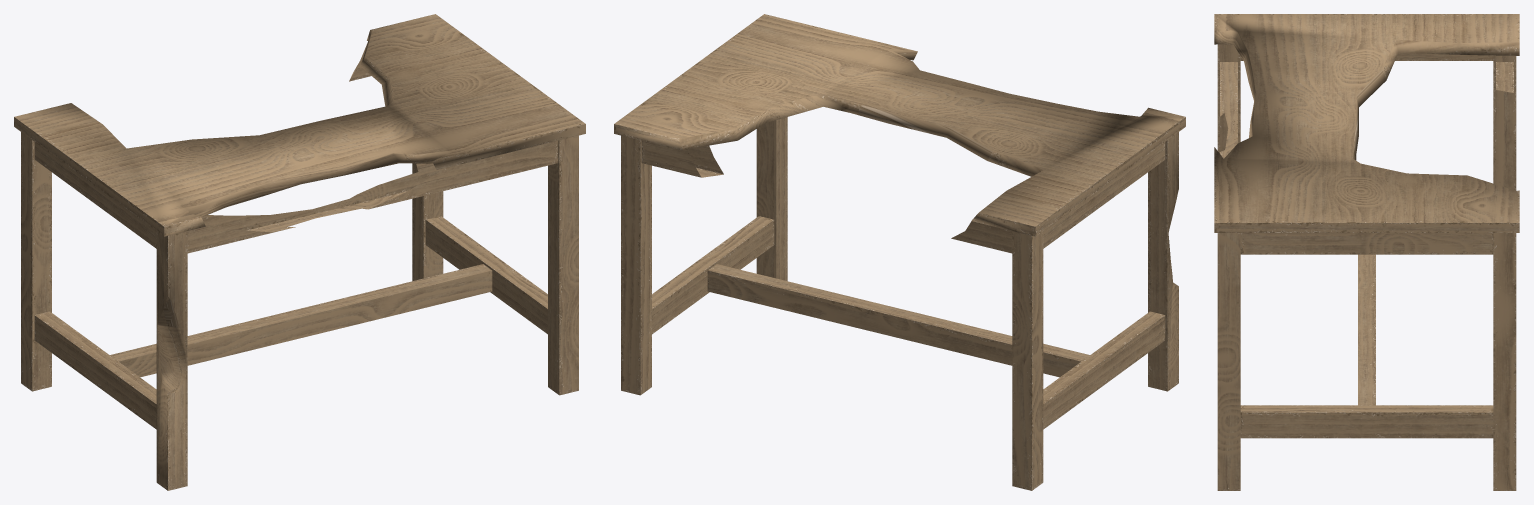
Rendered from Table_broken.fbx.
3 views of the same model, side by side, from view 1: azimuth 30°, elevation 25°; view 2: azimuth 150°, elevation 25°; view 3: azimuth 270°, elevation 25° (orthographic).
Parts seen in each view (by area): view 1: Table03.001; view 2: Table03.001; view 3: Table03.001.
Boxes of the visible parts, x1,y1,x2,y2 form: Table03.001: [14, 14, 585, 490]; Table03.001: [614, 14, 1185, 490]; Table03.001: [1214, 14, 1519, 490].
Size of the model in its own units: 120 by 72.38 by 73.97.
Materials: 1 (1 with a texture image).
